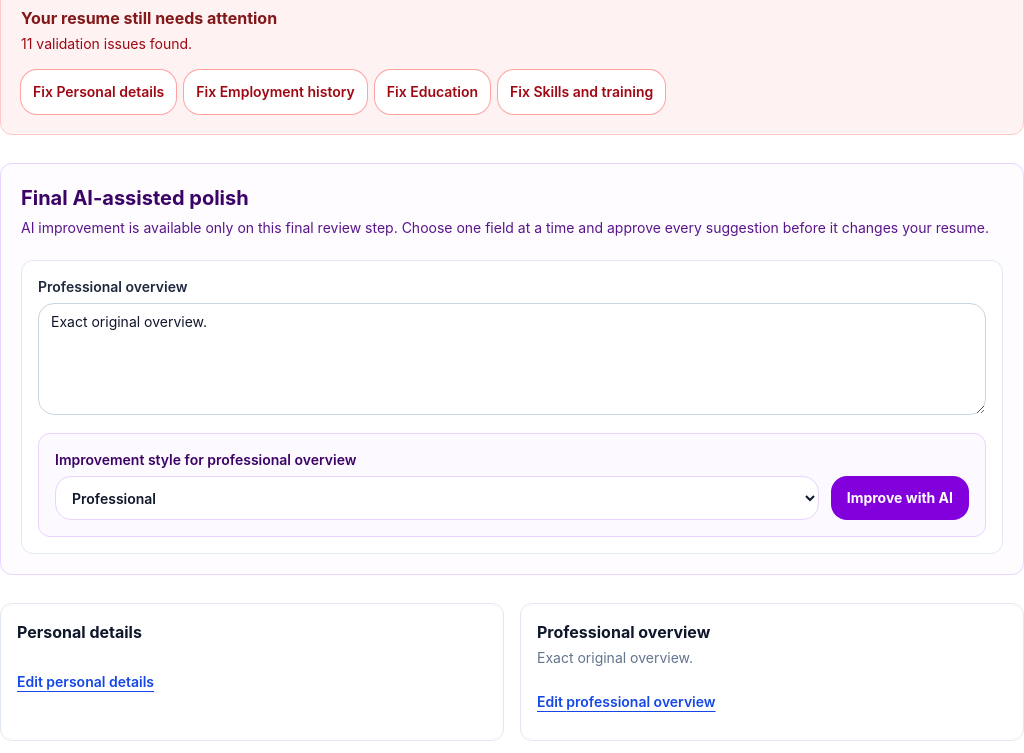
Test: controlled AI assistance › accepts, edits, and undoes a suggestion using the exact original text
Step 1. Click the button with aria-label "Improve professional overview with AI" → [900, 498], box top-left (831, 476), bottom-right (969, 520)
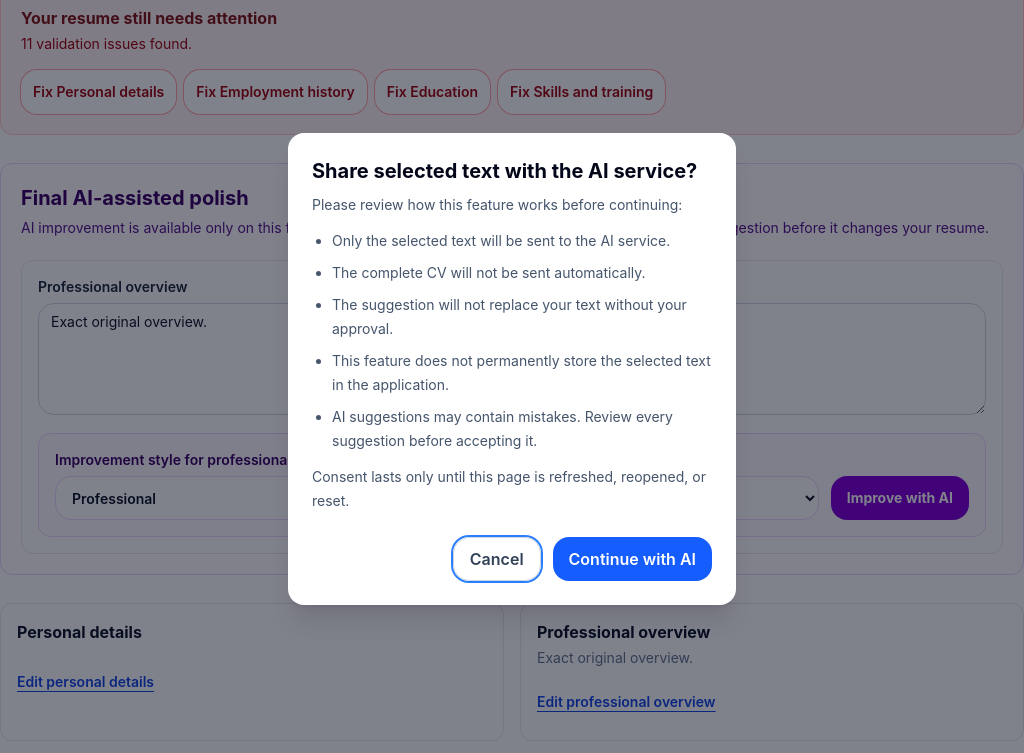
Step 2. Click the button "Continue with AI" → [632, 559], box top-left (553, 537), bottom-right (712, 581)
(page scrolled)
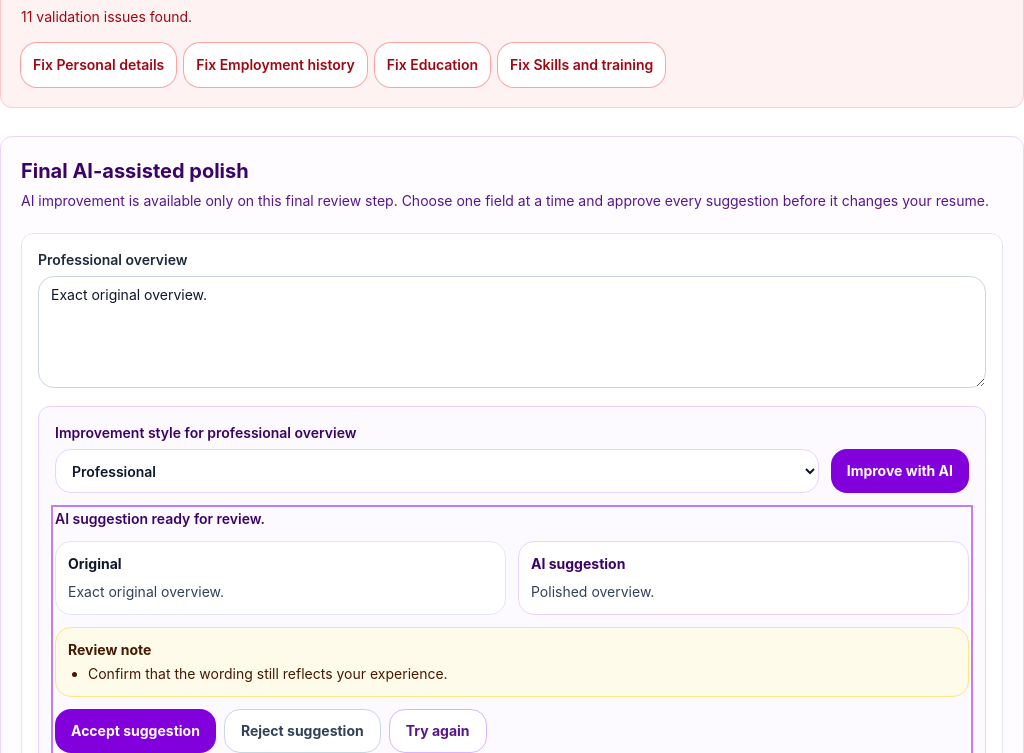
Expected: the text "Polished overview." is shown, top-left (531, 583), bottom-right (654, 600)
Expected: the list item "Confirm that the wording still reflects your experience." is shown, top-left (88, 665), bottom-right (448, 682)
Step 3. Click the button "Accept suggestion" → [135, 731], box top-left (55, 709), bottom-right (216, 752)
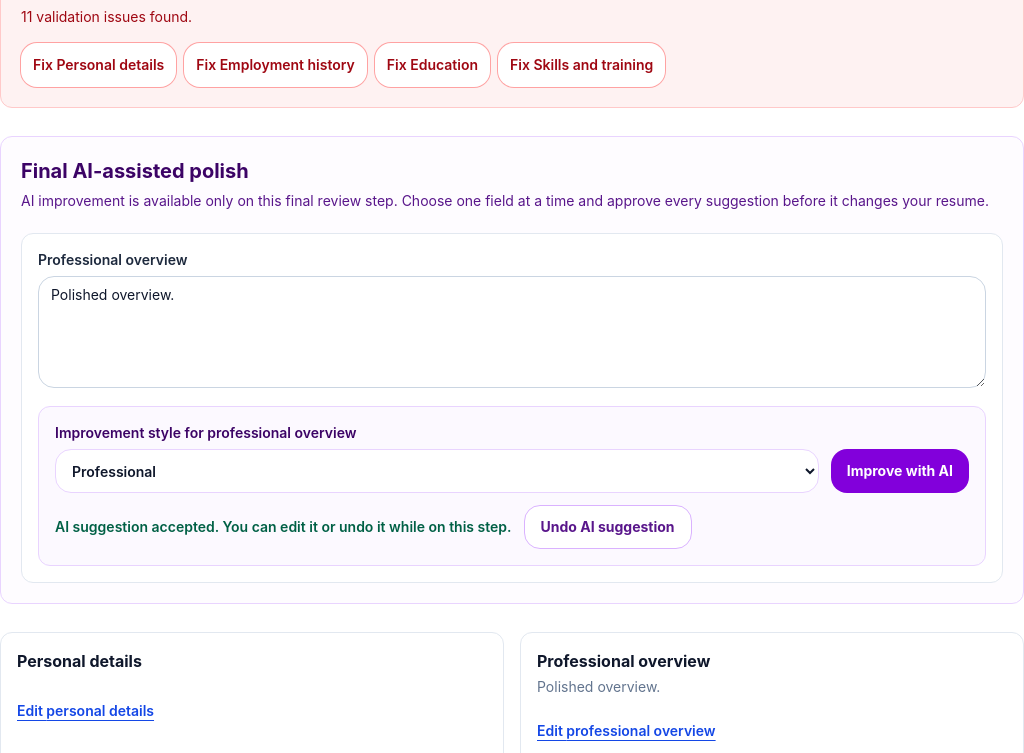
Expected: the text box labelled "Professional overview" holds "Polished overview."
Step 4. Replace the text in the text box labelled "Professional overview" with "Edited accepted suggestion." → [512, 332], box top-left (38, 276), bottom-right (986, 388)
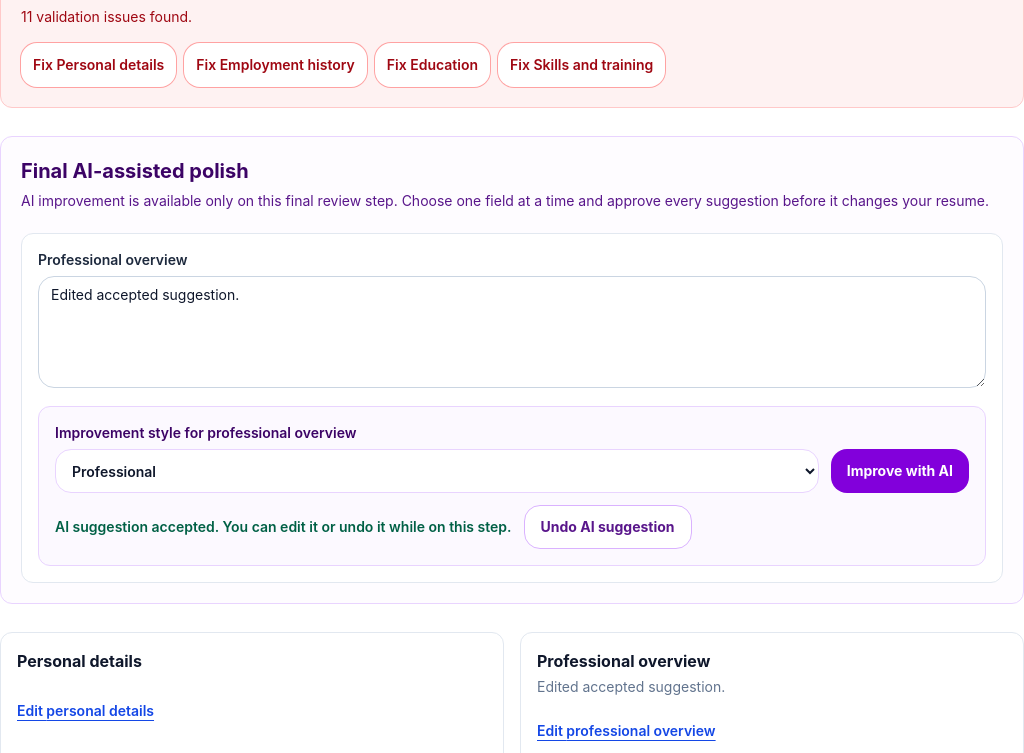
Step 5. Click the button "Undo AI suggestion" → [608, 527], box top-left (524, 505), bottom-right (692, 549)
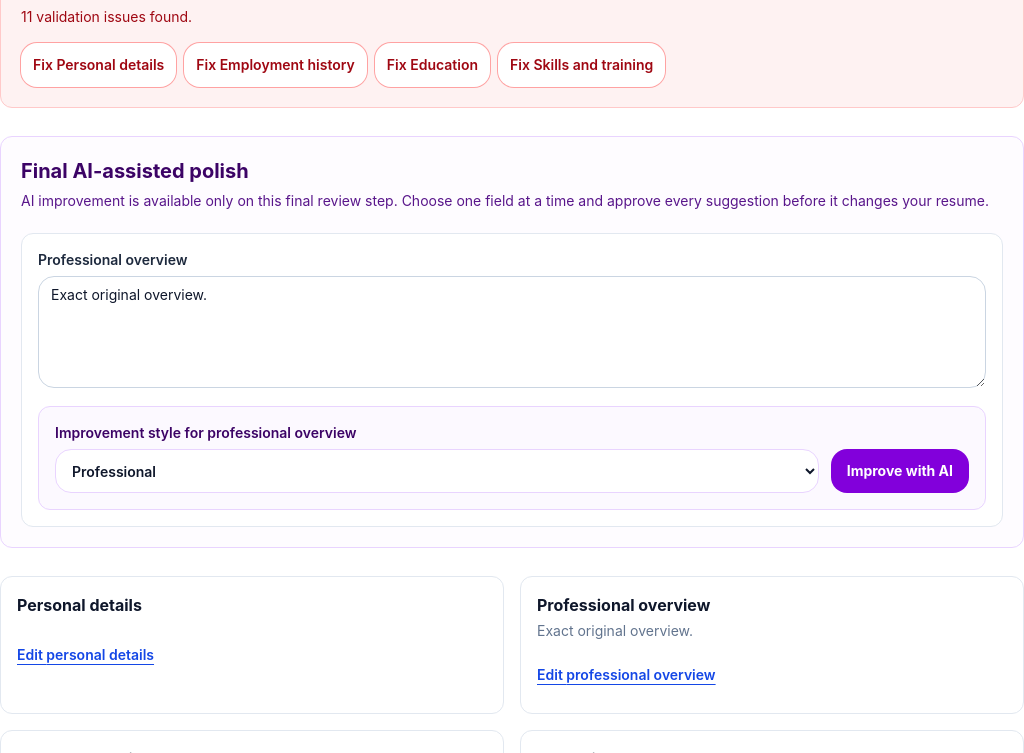
Expected: the text box labelled "Professional overview" holds "Exact original overview.", top-left (38, 276), bottom-right (986, 388)
